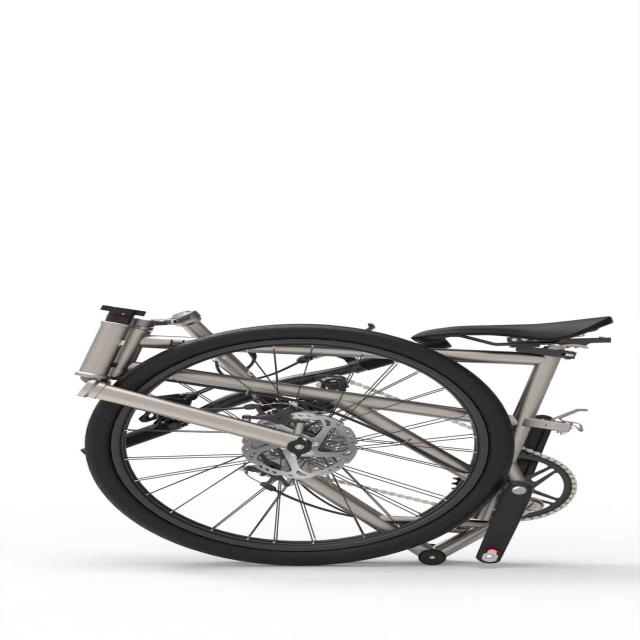folding-bike: (75, 302, 614, 567)
